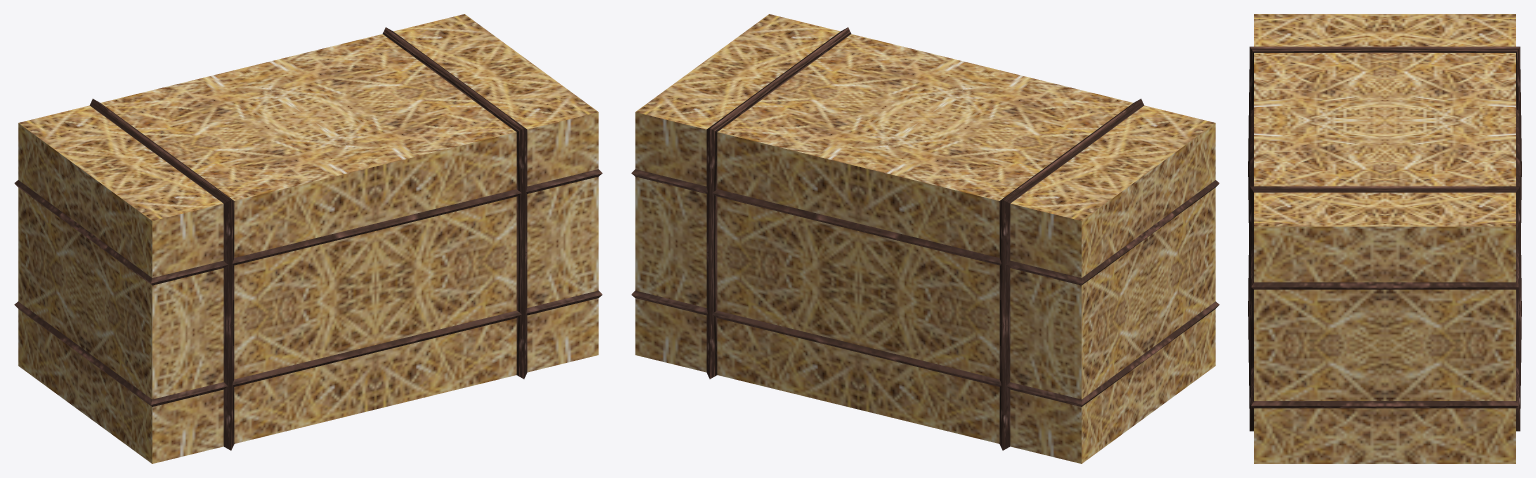
Rendered from PAJA.fbx.
3 views of the same model, side by side, from view 1: azimuth 30°, elevation 25°; view 2: azimuth 150°, elevation 25°; view 3: azimuth 270°, elevation 25° (orthographic). The views are drawn at different scales.
Parts seen in each view (by area): view 1: PAJA; view 2: PAJA; view 3: PAJA.
Boxes of the visible parts, x1=… form: PAJA: x1=14, y1=14, x2=602, y2=463; PAJA: x1=631, y1=14, x2=1219, y2=463; PAJA: x1=1248, y1=14, x2=1521, y2=463.
Size of the model in its own units: 114 by 60.22 by 61.01.
